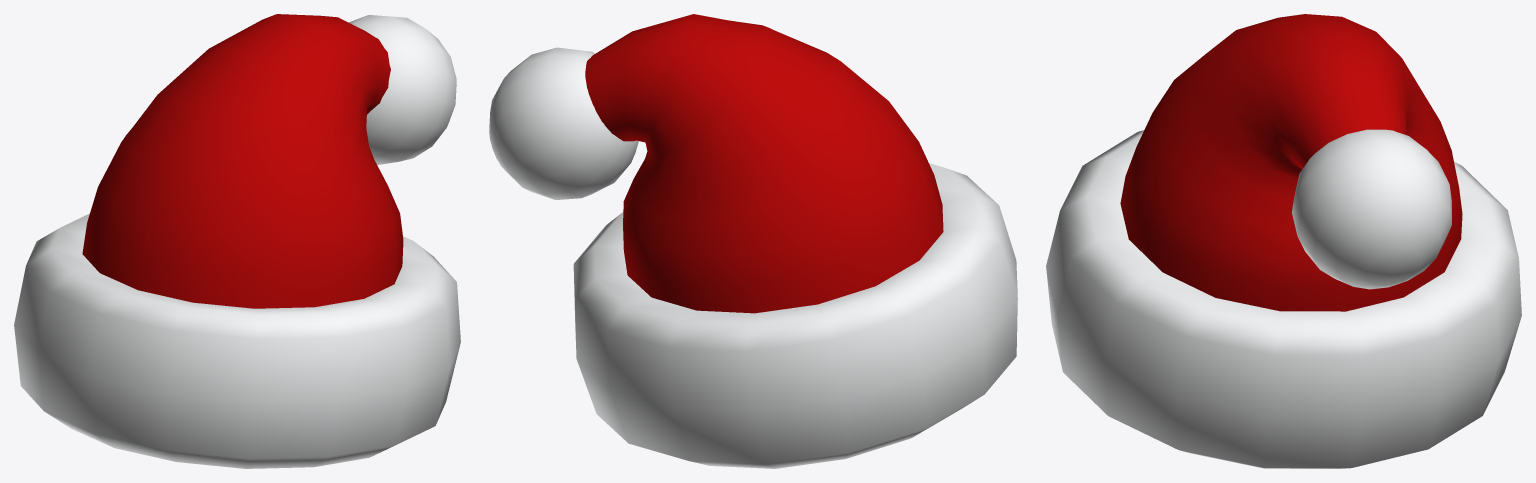
File: mu noel.fbx
3 views of the same model, side by side, from view 1: azimuth 30°, elevation 25°; view 2: azimuth 150°, elevation 25°; view 3: azimuth 270°, elevation 25° (orthographic). The views are drawn at different scales.
Visible parts, largest first — view 1: mu_noel; view 2: mu_noel; view 3: mu_noel.
Part boxes in pixels (x1,y1,x2,y2): mu_noel: (14, 14, 460, 468); mu_noel: (489, 14, 1017, 468); mu_noel: (1046, 14, 1521, 468).
Bounding box in the file's own units: 103 × 84.43 × 89.7.
